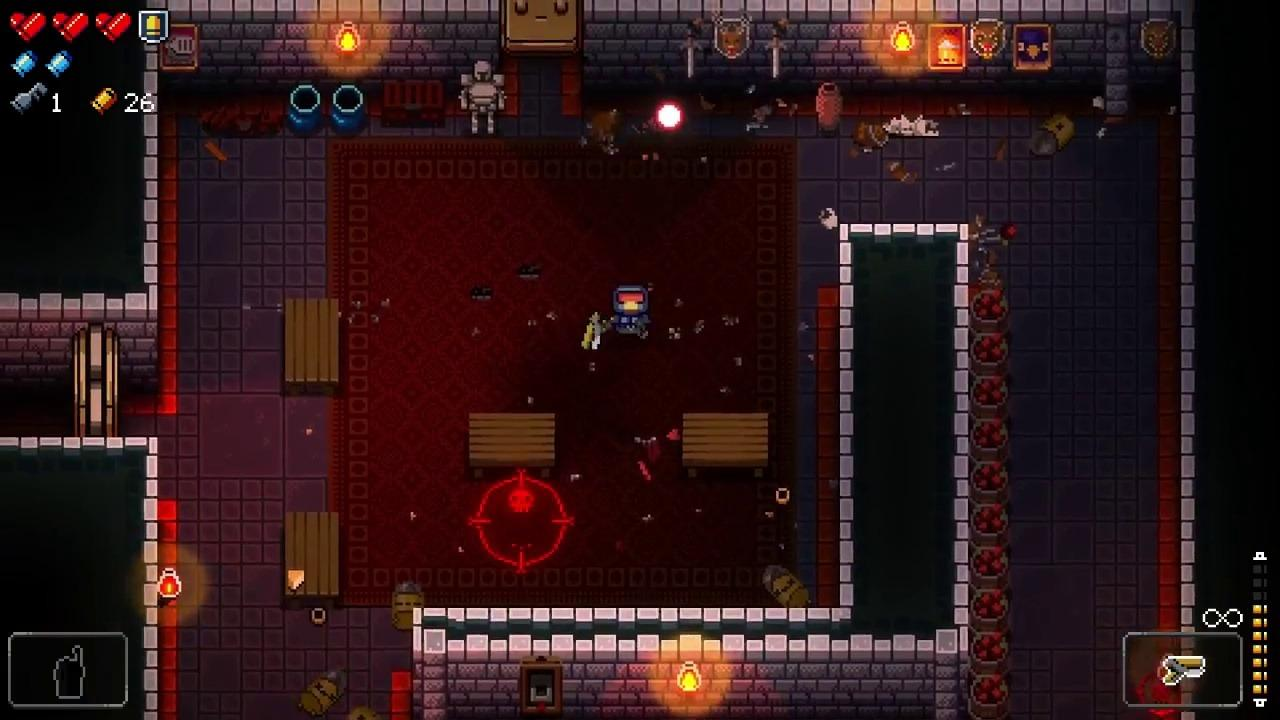bullet: (655, 100, 684, 131)
dead_bullet_kin: (299, 665, 348, 716), (762, 563, 812, 608), (1028, 112, 1075, 156), (391, 578, 426, 631)
enemy_spawn: (468, 467, 576, 575)
locked_door: (73, 322, 119, 438), (501, 0, 584, 57)
player: (613, 285, 648, 335)
table: (469, 413, 554, 479), (683, 413, 768, 478), (285, 298, 339, 396), (284, 513, 339, 609)
